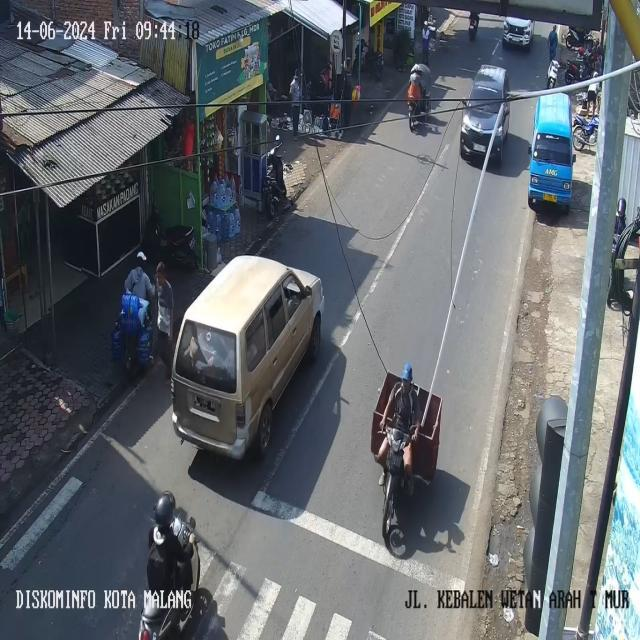Helmet: (154, 491, 176, 527), (401, 363, 412, 381), (410, 63, 421, 73)
Number Plate: (194, 395, 219, 412), (543, 193, 556, 202), (473, 143, 485, 151)
Rearview Mirror: (189, 517, 196, 530), (304, 286, 311, 296), (572, 153, 576, 162), (275, 134, 279, 141), (528, 145, 531, 154)
